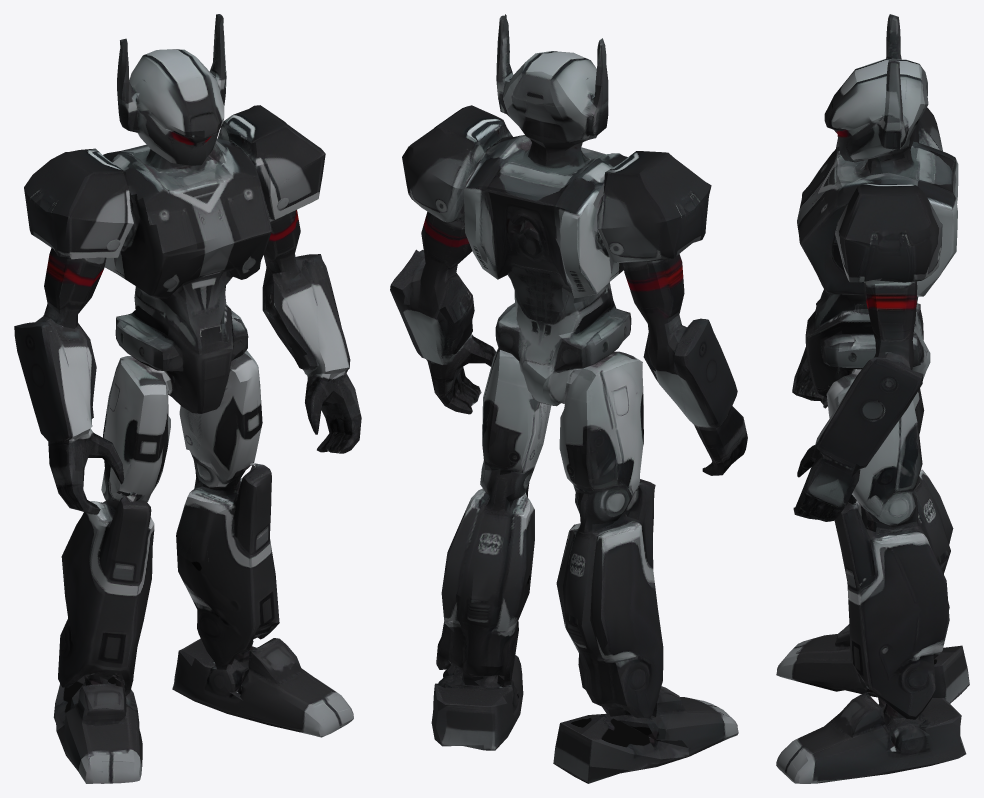
File: Meshy_AI_stylized_low_poly_toy_0428225217_texture.fbx
The picture shows the model from 3 angles, left to right: view 1: azimuth 30°, elevation 25°; view 2: azimuth 150°, elevation 25°; view 3: azimuth 270°, elevation 25°; orthographic projection. The views are drawn at different scales.
Visible parts, largest first — view 1: Mesh0; view 2: Mesh0; view 3: Mesh0.
Part boxes in pixels (x1,y1,x2,y2): Mesh0: [14, 14, 361, 783]; Mesh0: [390, 14, 747, 783]; Mesh0: [776, 14, 969, 783].
Bounding box in the file's own units: 84.75 × 191 × 48.88.
1 material, 1 textured.
